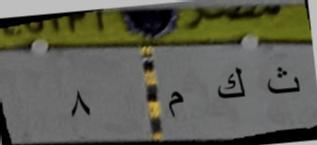8: (66, 85, 96, 126)
kaaf: (210, 64, 249, 108)
meem: (161, 83, 188, 125)
thaa: (265, 60, 302, 99)
